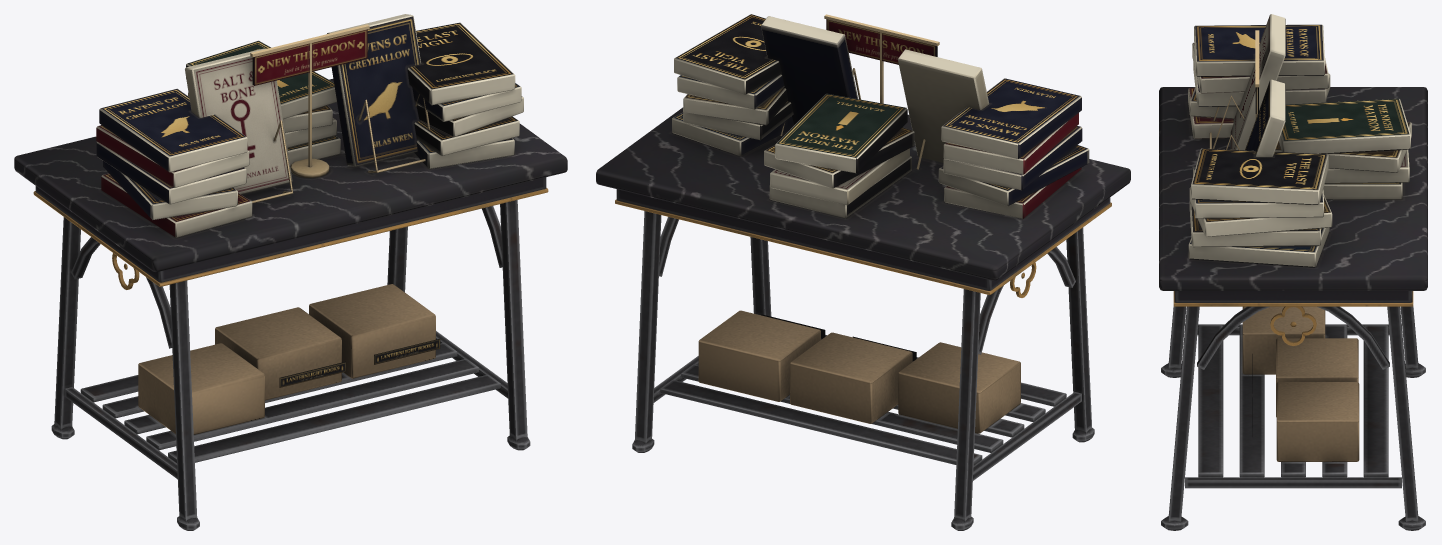
Rendered from NewReleasesTable.fbx.
3 renders of one model, left to right at view 1: azimuth 30°, elevation 25°; view 2: azimuth 150°, elevation 25°; view 3: azimuth 270°, elevation 25°, orthographic. The views are drawn at different scales.
Parts seen in each view (by area): view 1: NewReleasesTable; view 2: NewReleasesTable; view 3: NewReleasesTable.
Part boxes in pixels (box(x1,y1,x2,y2)): NewReleasesTable: box(14, 14, 567, 530); NewReleasesTable: box(596, 14, 1130, 530); NewReleasesTable: box(1159, 14, 1427, 530).
Bounding box in the file's own units: 440 × 423 × 260.
